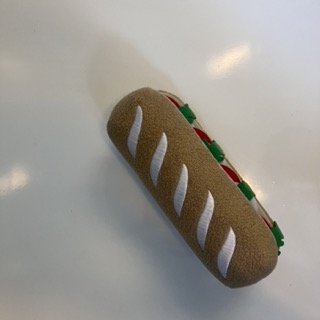sandwich: (107, 88, 282, 290)
